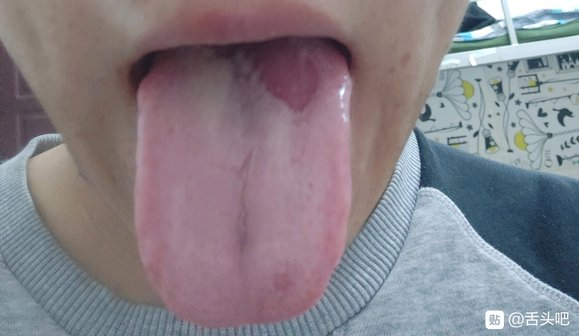baitaishe: (134, 36, 351, 329)
botaishe: (234, 39, 329, 119)
liewenshe: (231, 147, 253, 261)
